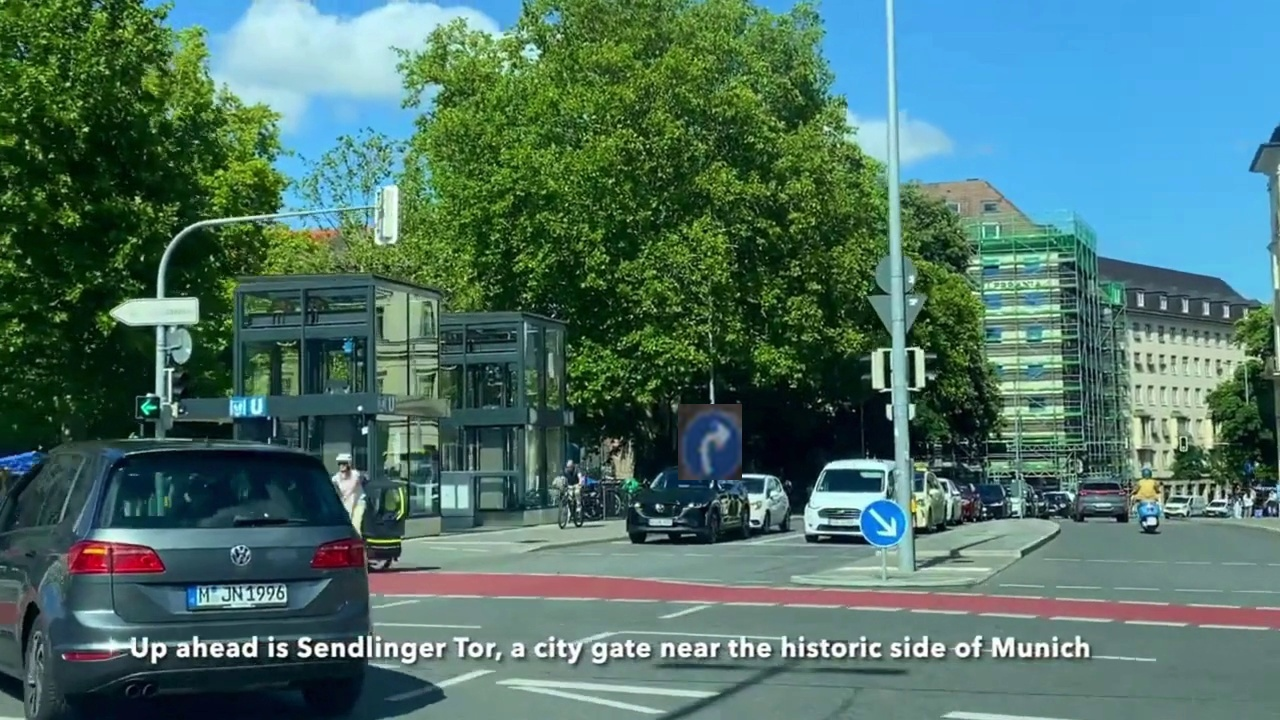Turn right: (678, 404, 742, 480)
